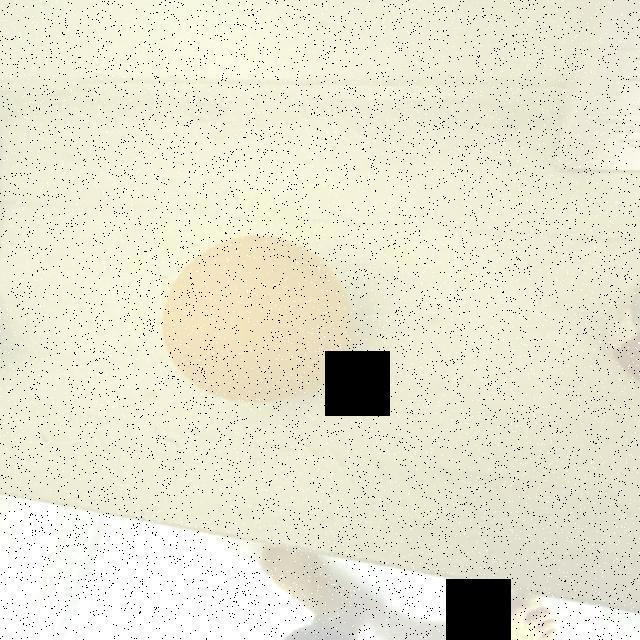egg: (158, 234, 368, 407)
